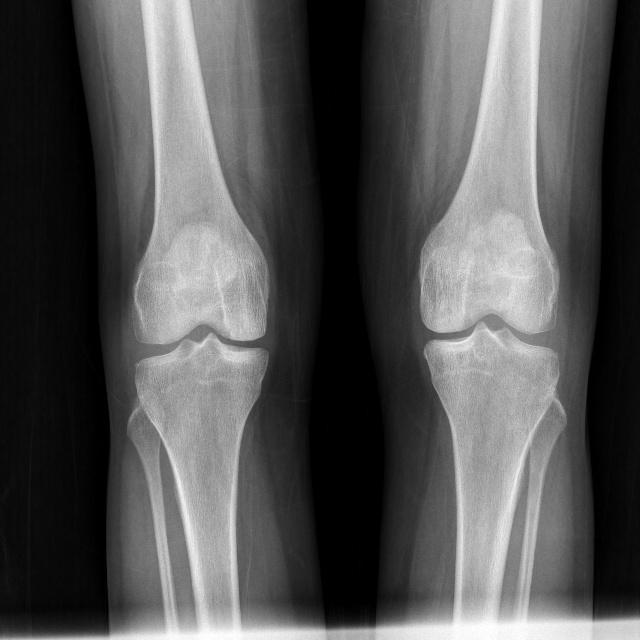Knee: (416, 273, 560, 398), (129, 275, 270, 400)
